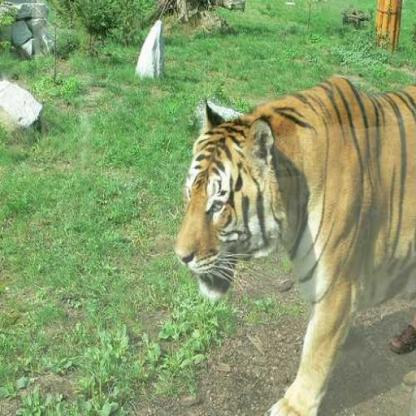Tiger: (160, 70, 415, 415)
